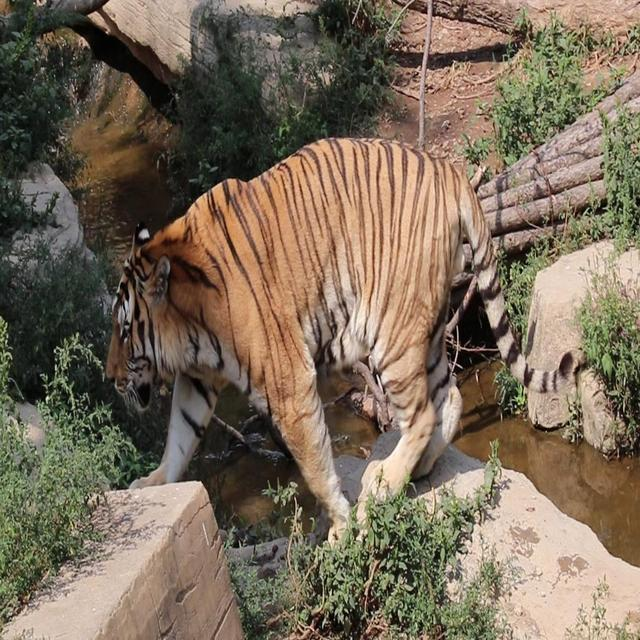tiger: (102, 134, 583, 550)
